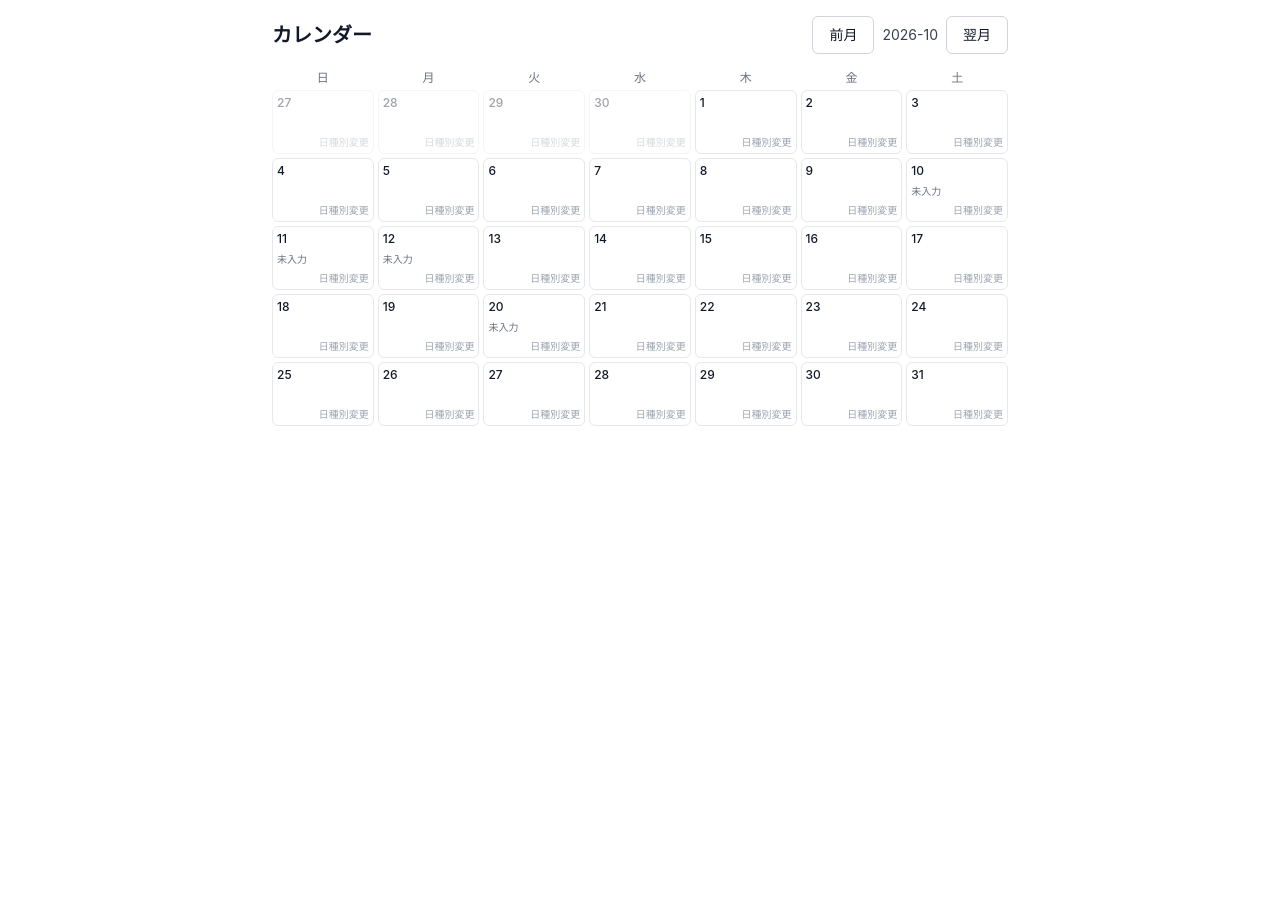
it: CalendarPage の日付選択 › asks which kind of record to add for an empty yesterday
Expected: the heading "カレンダー" is shown, x1=272 y1=21 x2=372 y2=49
Click the button "11": (323, 239) x1=277 y1=231 x2=369 y2=247
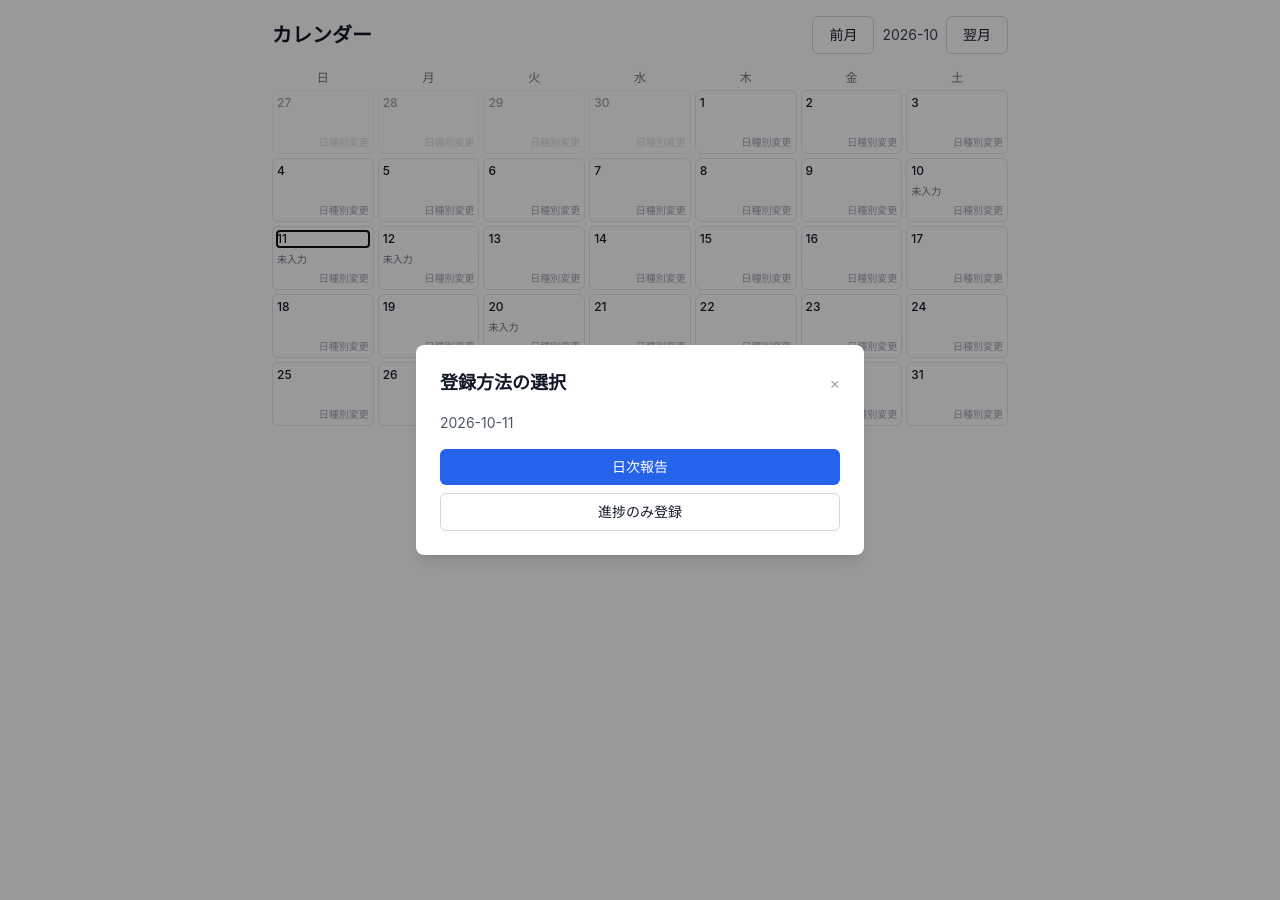
Expected: the heading "登録方法の選択" is shown, x1=440 y1=369 x2=566 y2=397
